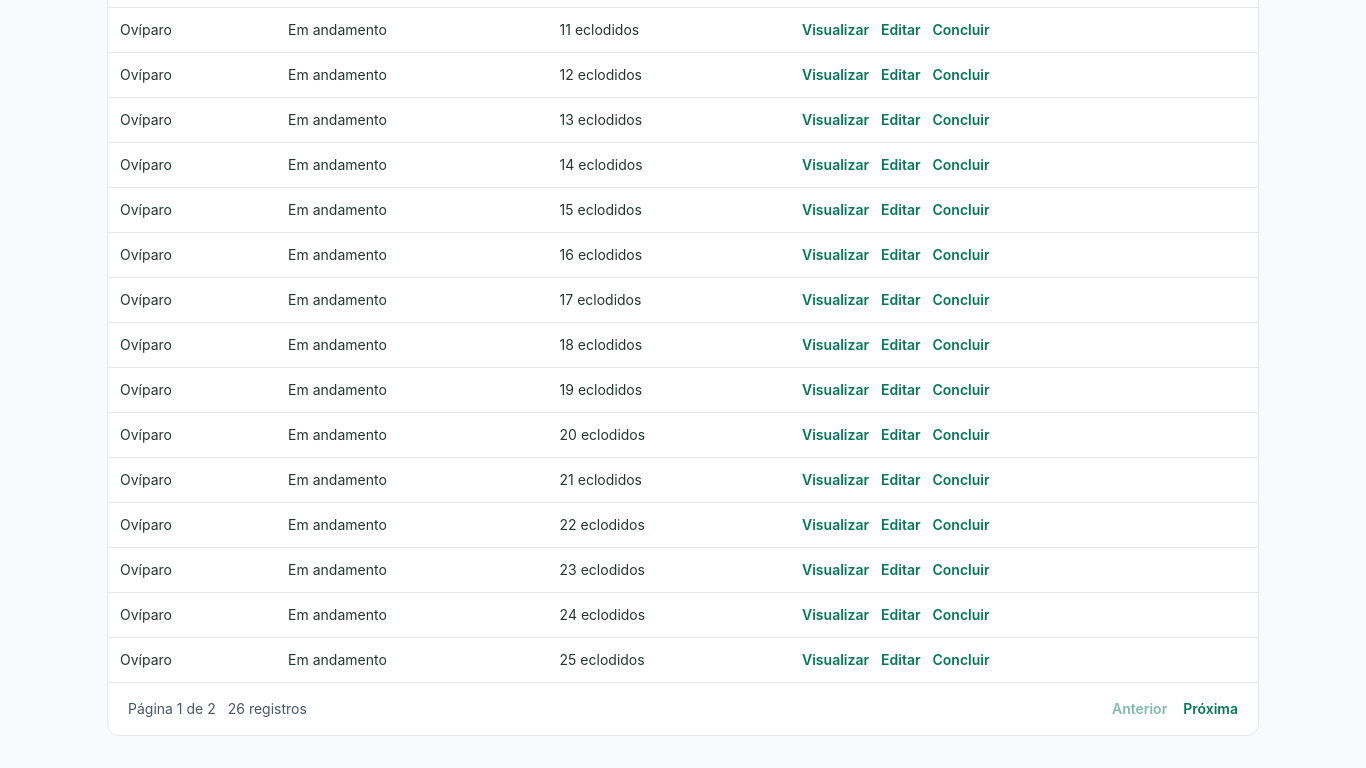
Test: ReproductiveCycleListPage pagination › makes the 26th cycle reachable with server metadata and navigation 1 → 2 → 1
(page scrolled)
Check: the text "25 eclodidos" is shown, box [548,638,790,682]
Check: the text "26 eclodidos" is not shown
Click the button "Próxima".
click(1211, 709)  # box [1183,699,1238,719]
(page scrolled)
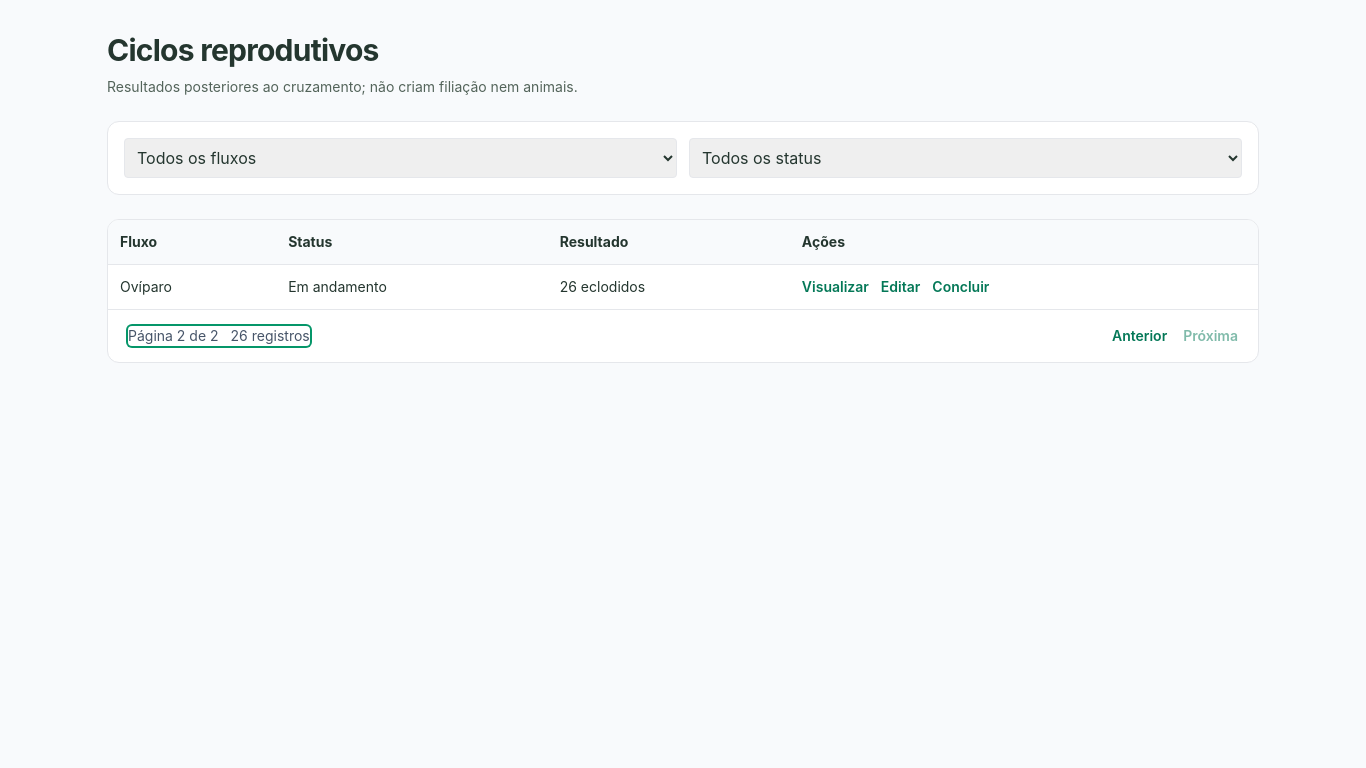
Check: the text "26 eclodidos" is shown, box [548,264,790,309]
Check: the text "25 eclodidos" is gone
Check: the text "Página 2 de 2" is shown, box [128,327,219,344]
Click the button "Anterior".
click(1140, 336)  # box [1112,326,1167,346]
(page scrolled)
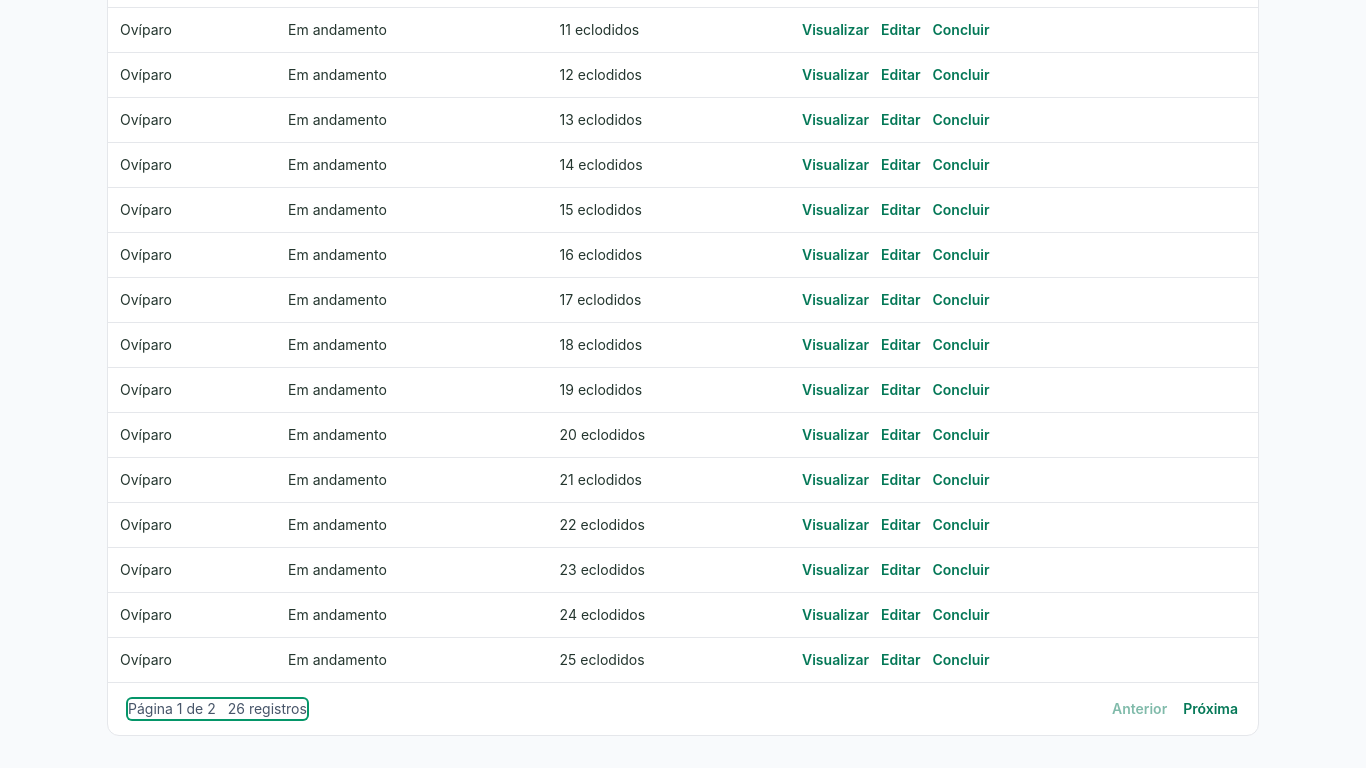
Check: the text "25 eclodidos" is shown, box [548,638,790,682]
